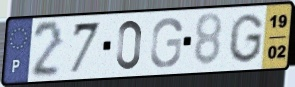0: (115, 19, 143, 72)
2: (30, 19, 68, 81)
7: (69, 22, 103, 75)
8: (191, 11, 226, 70)
G: (226, 12, 265, 65), (148, 16, 184, 70)
